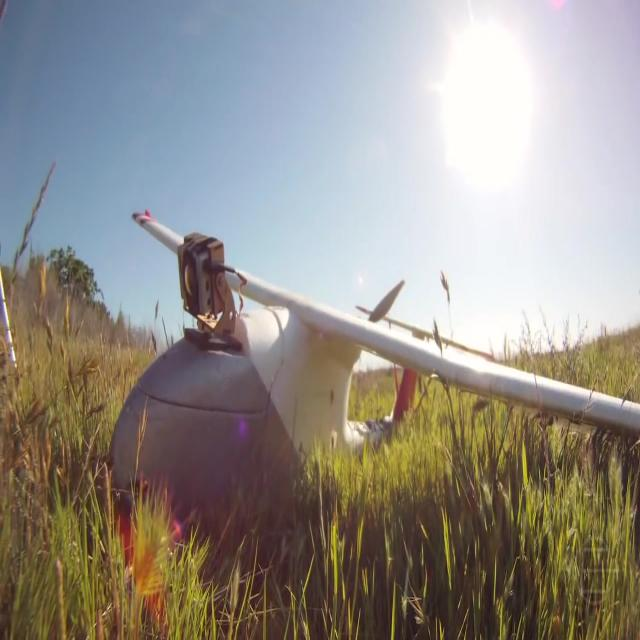iha: (107, 210, 640, 597)
